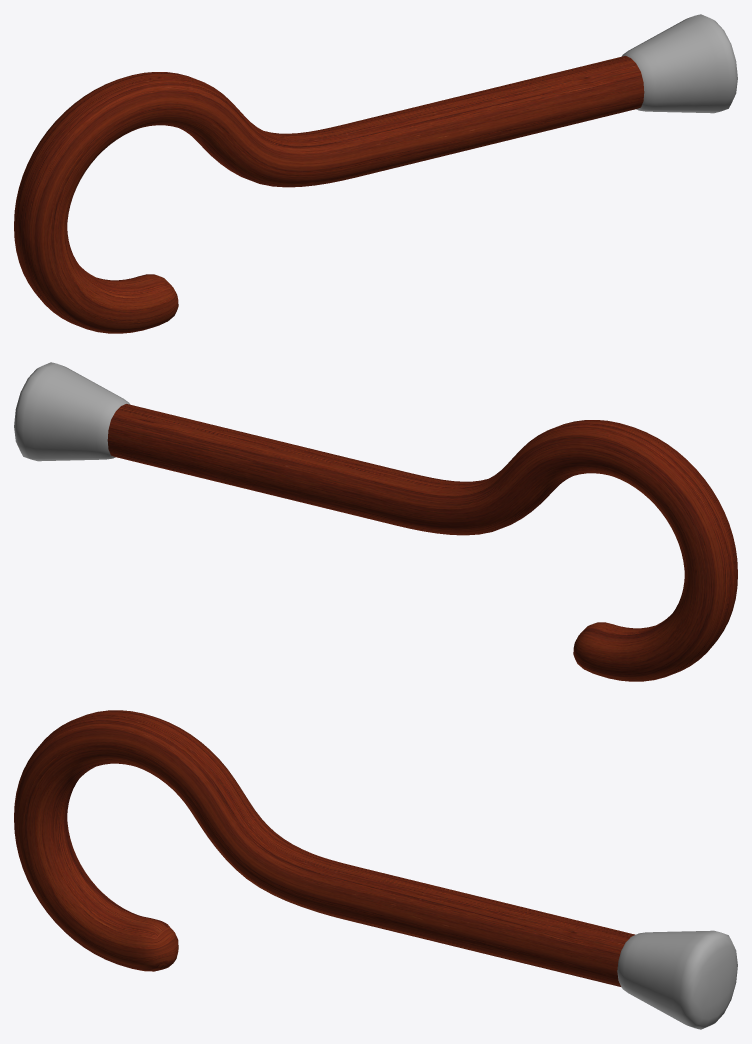
Rendered from cane.obj.
3 renders of one model, top to bottom at view 1: azimuth 30°, elevation 25°; view 2: azimuth 150°, elevation 25°; view 3: azimuth 330°, elevation 25°, orthographic.
Bounding box in the file's own units: 0.5654 × 0.1928 × 0.0685.
